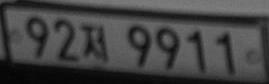1: (213, 32, 238, 74), (185, 29, 208, 71)
2: (53, 18, 79, 60)
9: (155, 26, 181, 70), (126, 24, 151, 67), (25, 16, 49, 58)
저: (80, 24, 110, 63)
